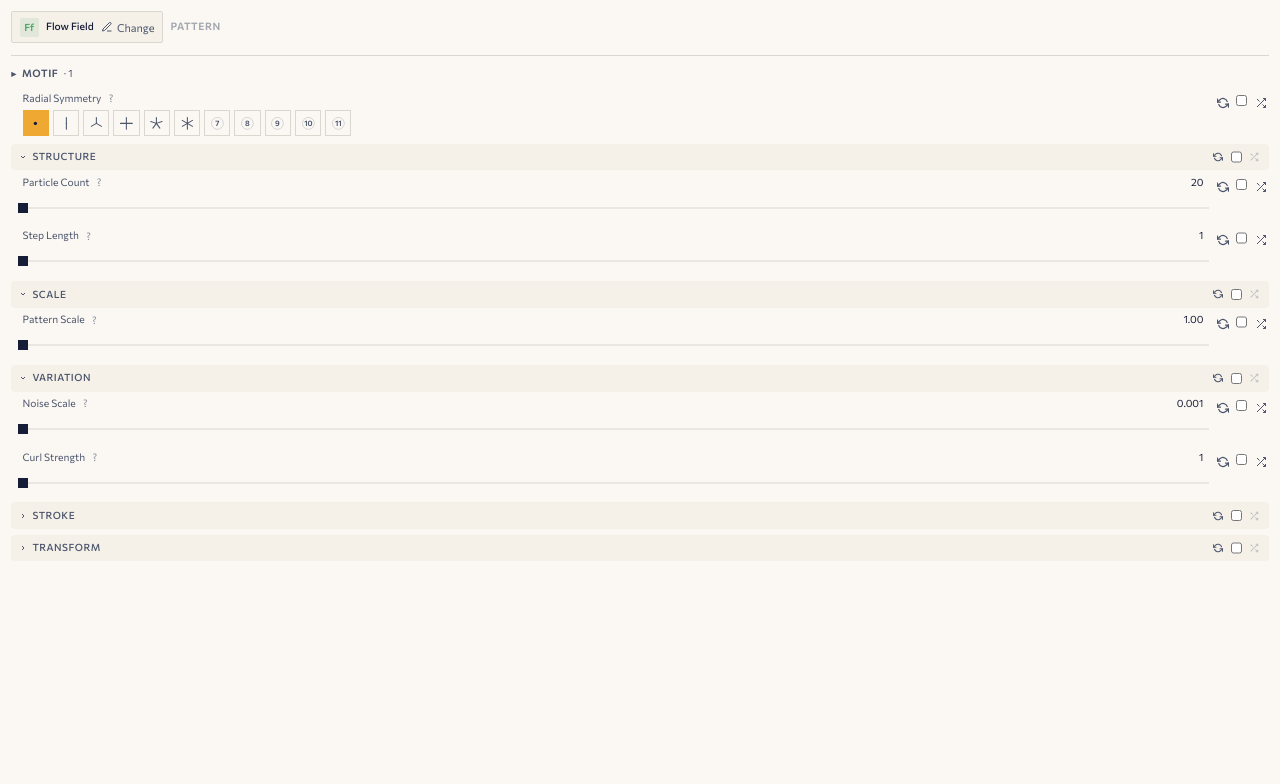
Scenario: Inspector — the pitch control's placement › shows the motif's stored spacing
The width and height of the screenshot is (1280, 784).
Step 1. Click the button with test id "motif-toggle" → (40, 73), box 11,67 -> 1269,81
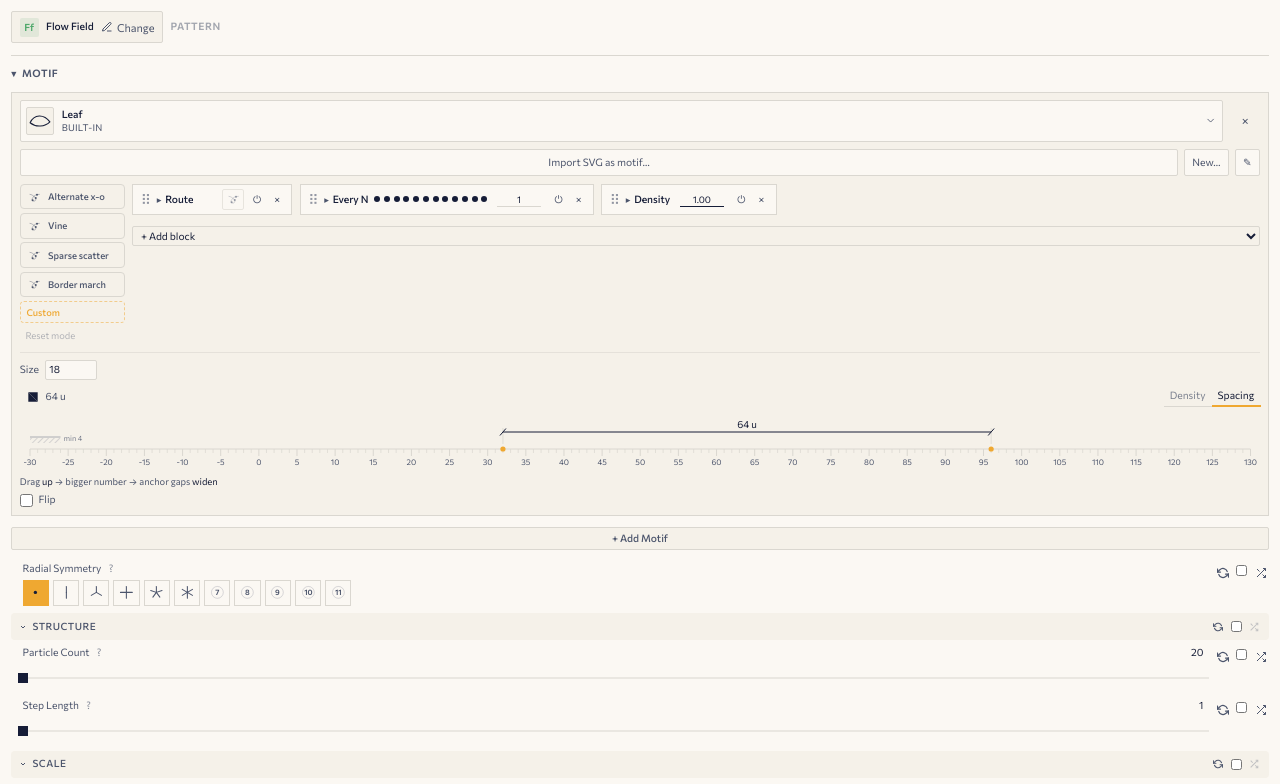
Result: the text with test id "motif-pitch-number-readout" reads "64 u" at 46,390 -> 66,402
